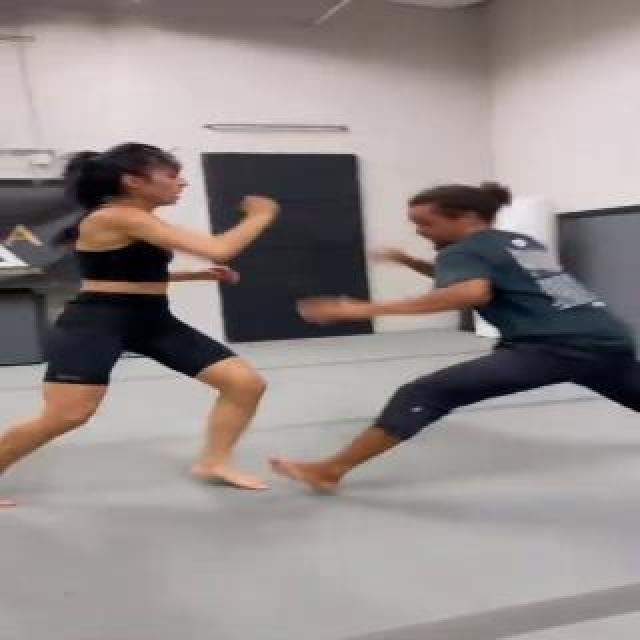fight: (44, 111, 640, 551)
